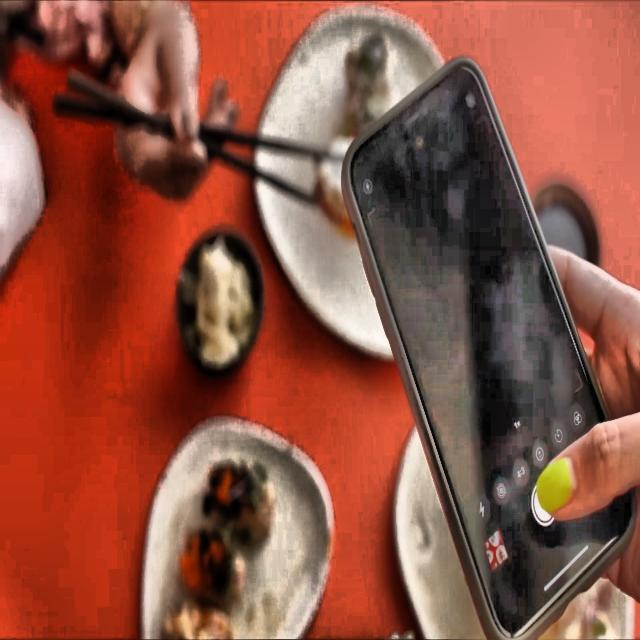Phone: (341, 52, 640, 640)
